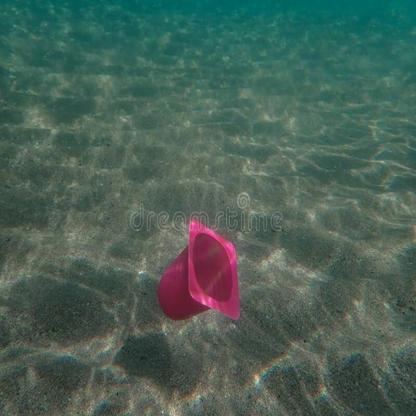plastic bottle: (157, 219, 242, 322)
